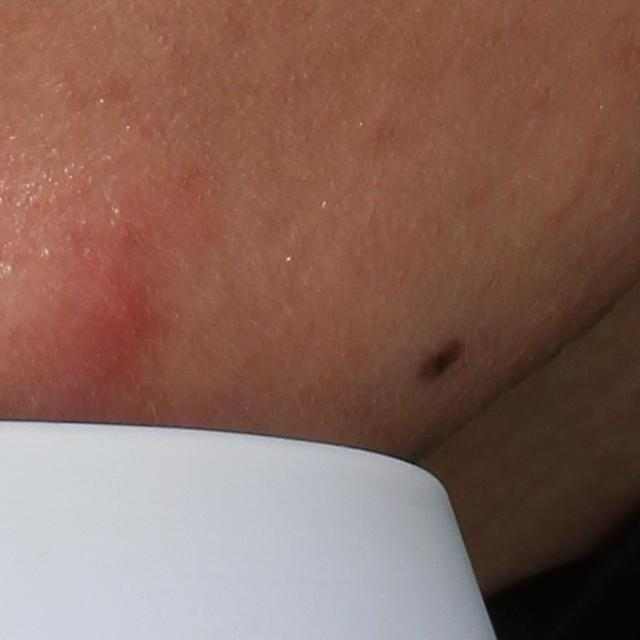nevus: (408, 335, 470, 385)
nodule: (56, 224, 179, 409)
